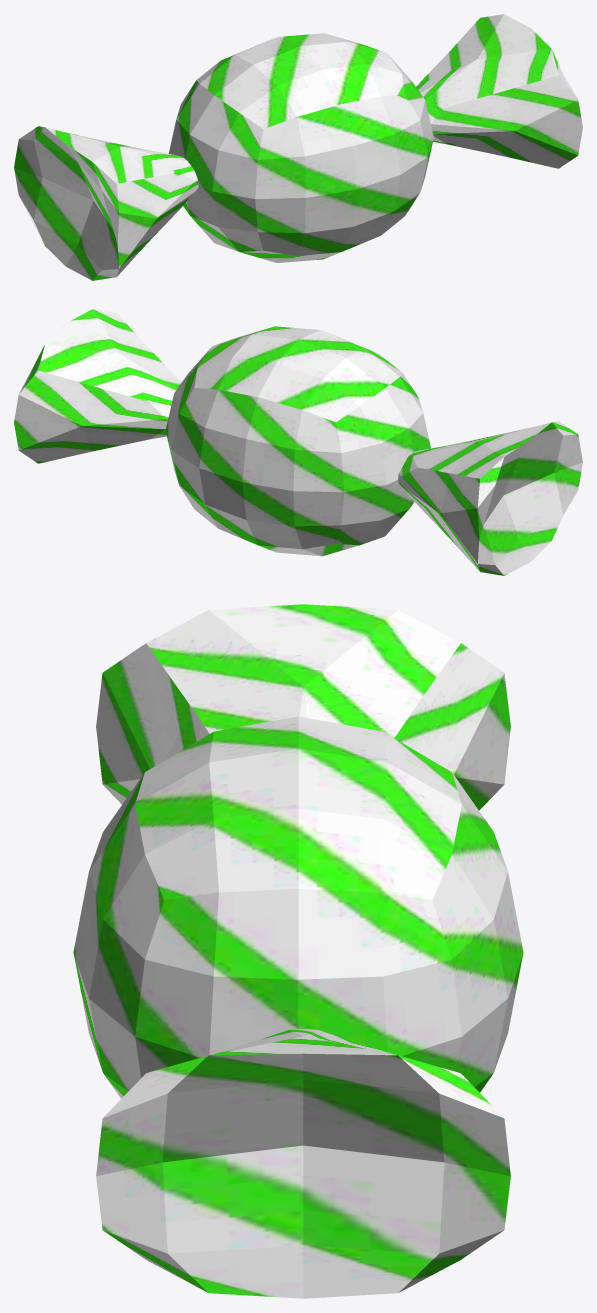
Rendered from greenCandy.fbx.
3 views of the same model, one above another, from view 1: azimuth 30°, elevation 25°; view 2: azimuth 150°, elevation 25°; view 3: azimuth 270°, elevation 25° (orthographic). The views are drawn at different scales.
Parts seen in each view (by area): view 1: Cube.001; view 2: Cube.001; view 3: Cube.001.
Part boxes in pixels (x1,y1,x2,y2): Cube.001: (14, 14, 582, 280); Cube.001: (14, 309, 582, 575); Cube.001: (73, 604, 523, 1298).
Size of the model in its own units: 795 by 333 by 333.
